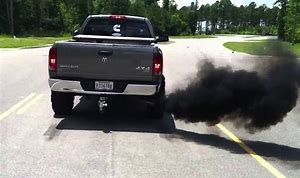smoke: (168, 55, 300, 133)
